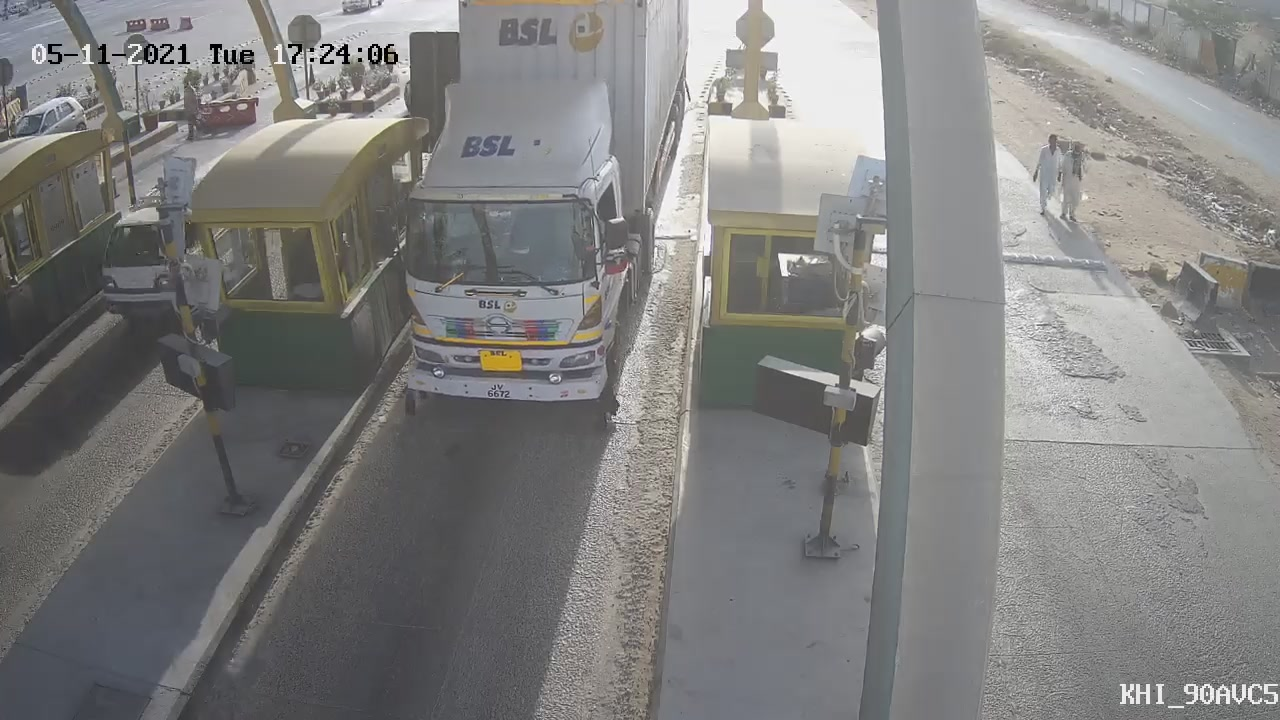F6: (346, 1, 705, 453)
